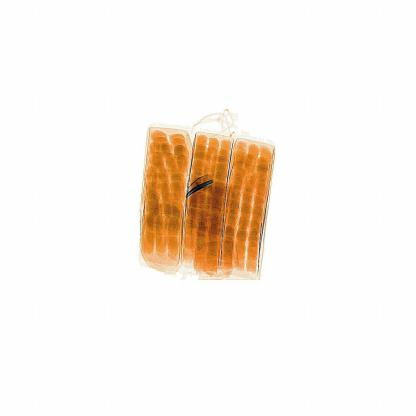wrench: (177, 162, 221, 202)
